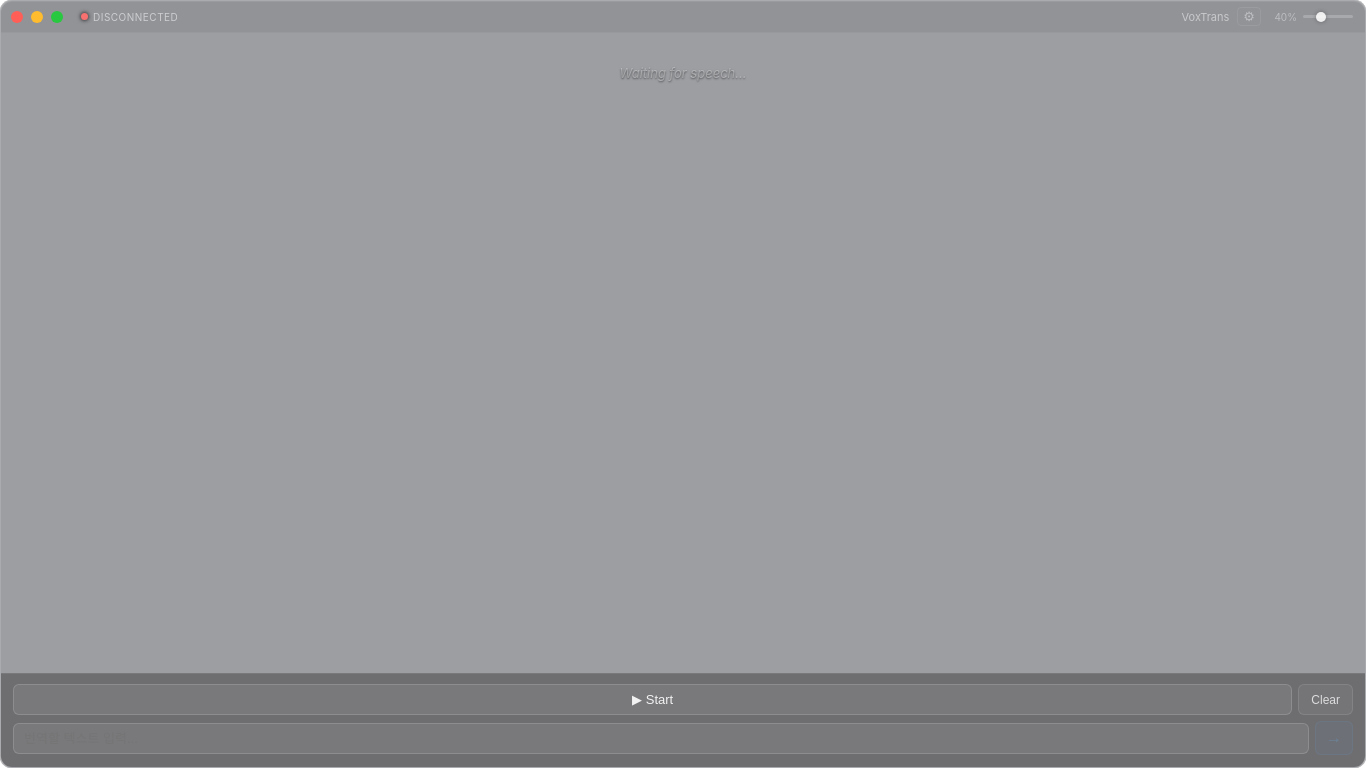
Scenario: the subtitle pace fields › restores the previous value when the entry is not a number
Click the button titled "Settings": [1249, 16] box [1237,7,1261,26]
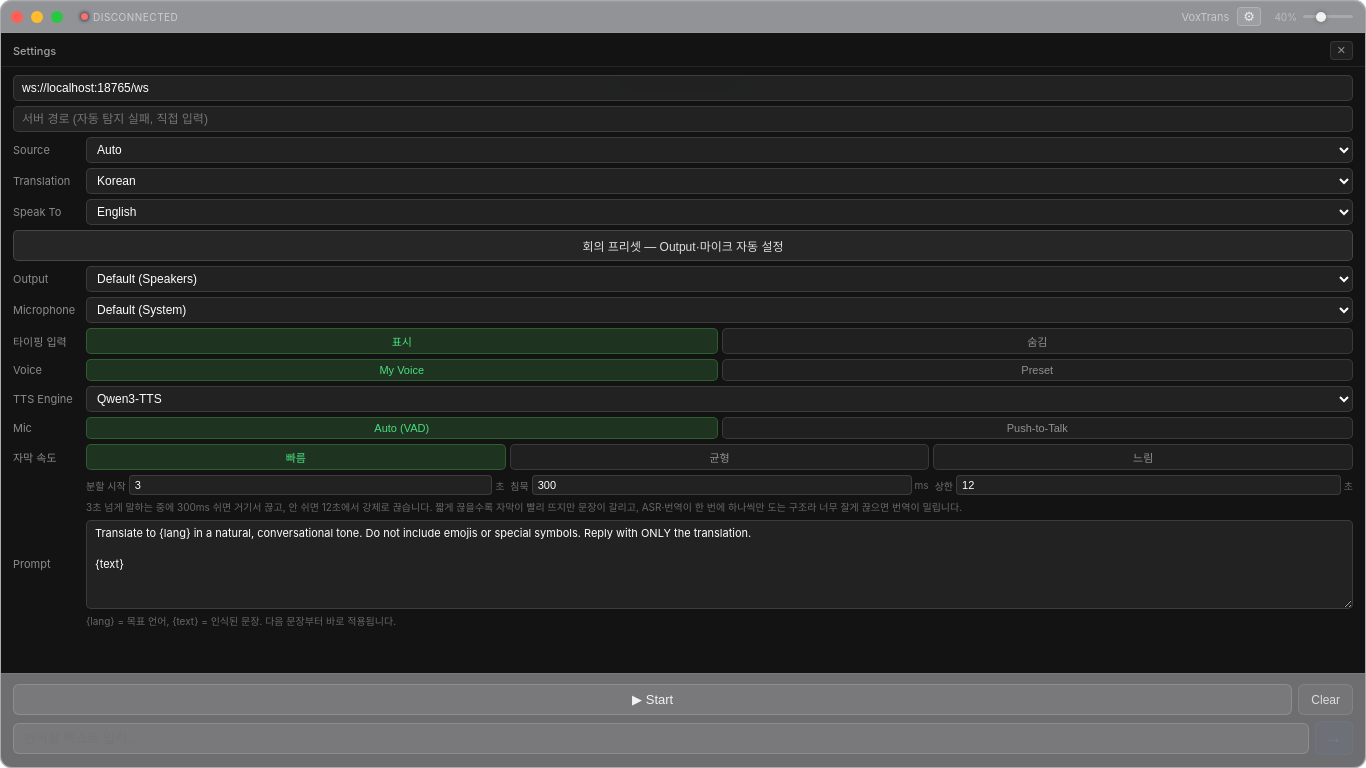
Replace the text in the field labelled "침묵" with "abc": [722, 485] box [532,475,912,495]
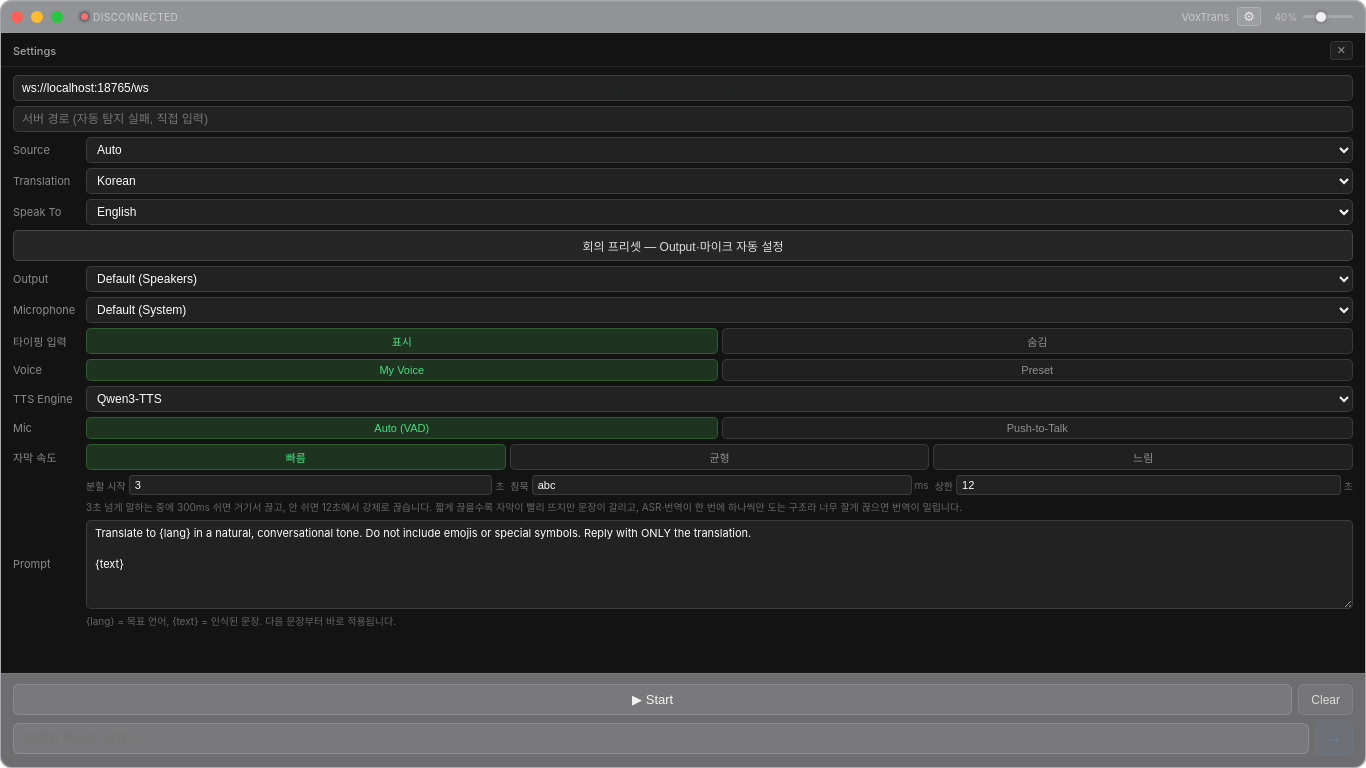
Leave the field labelled "침묵", box [532,475,912,495]
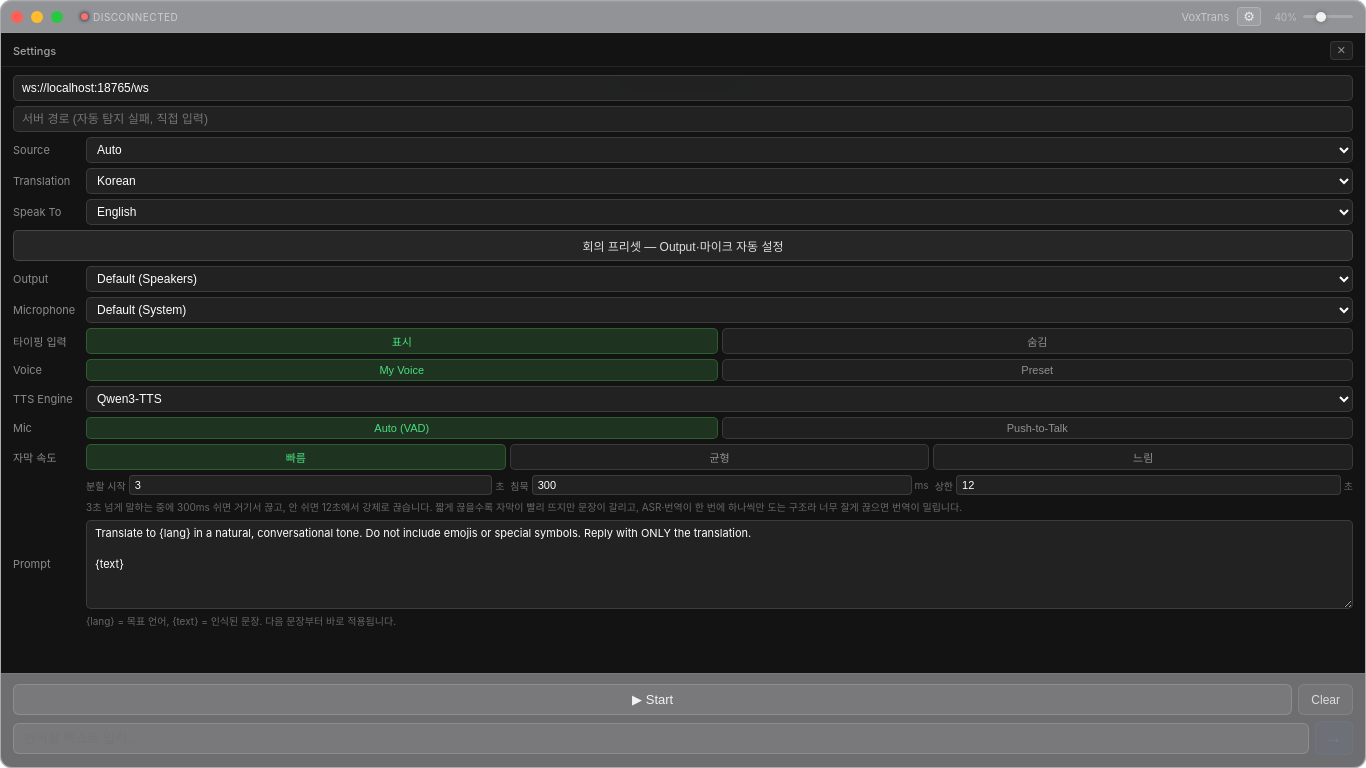
Check: the field labelled "침묵" holds "300", box [532,475,912,495]
